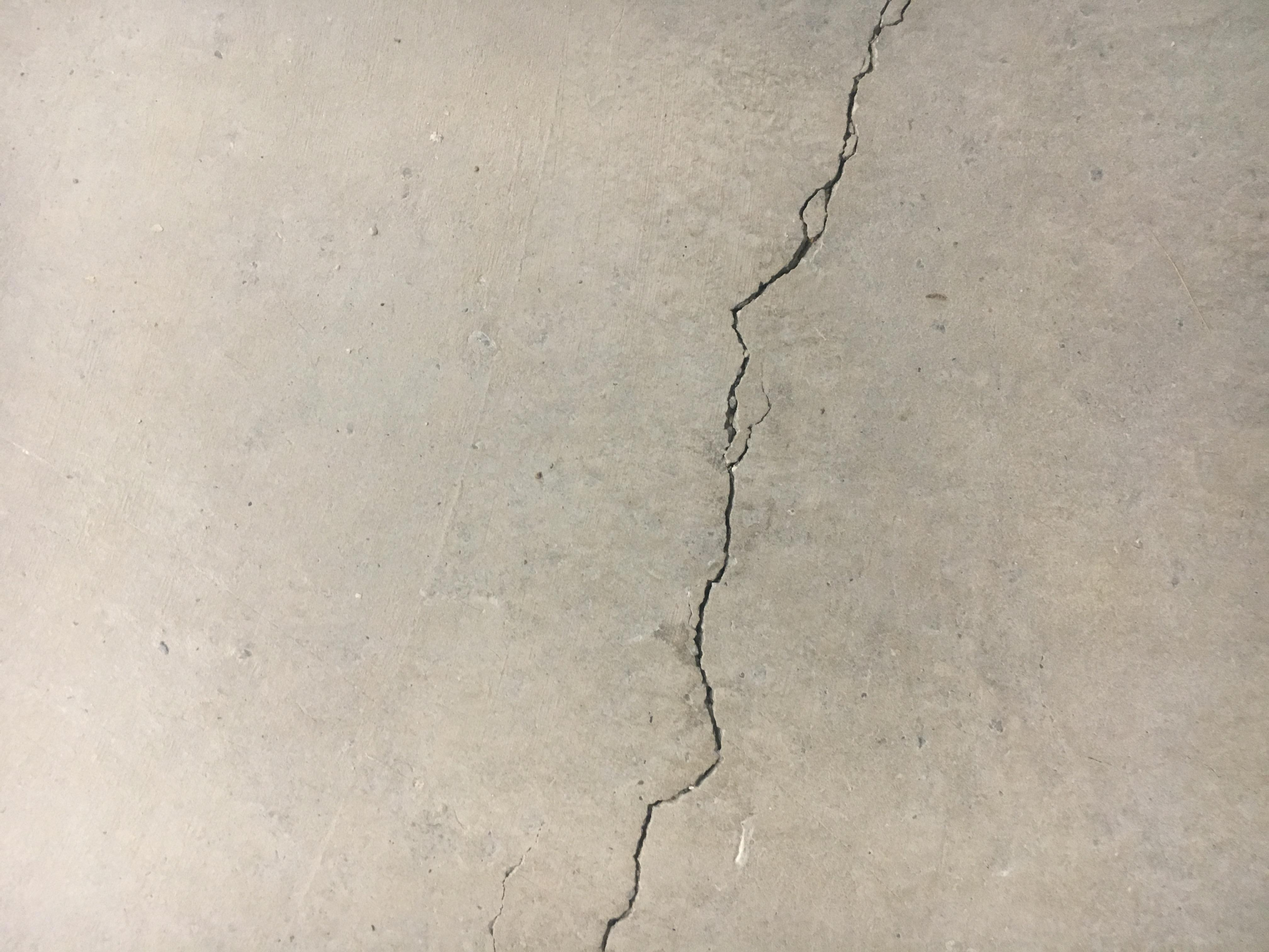Vertical Crack: (596, 1, 914, 947)
